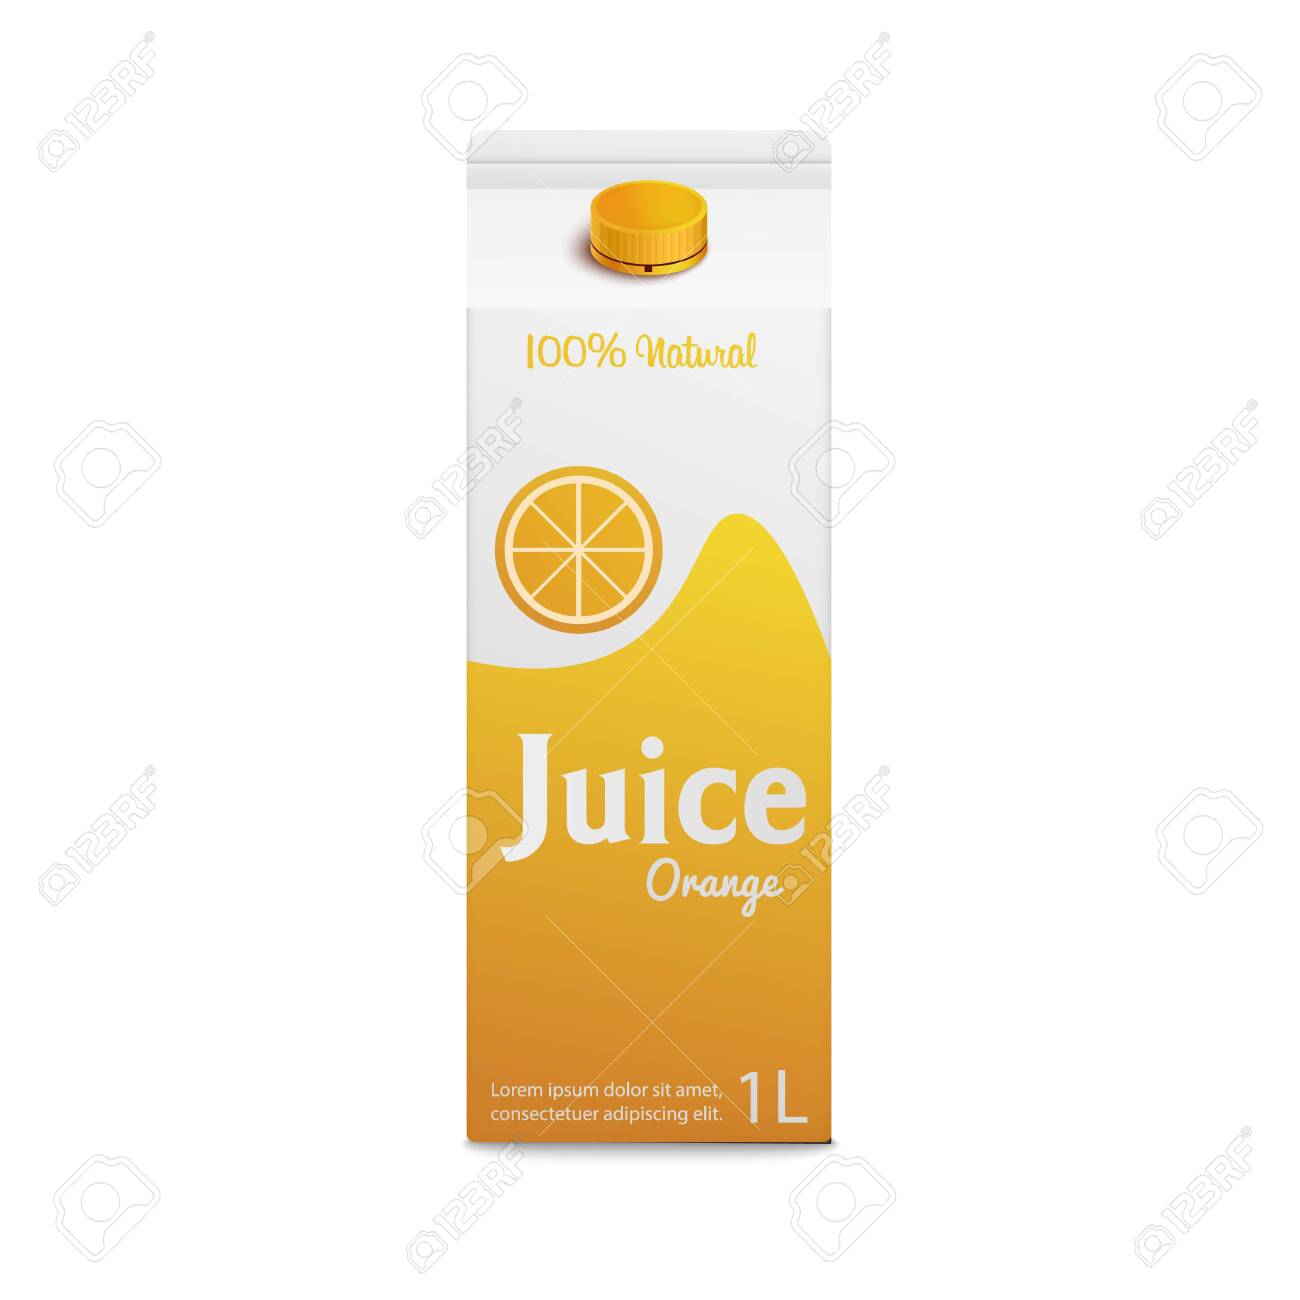carton: (419, 79, 935, 1223)
